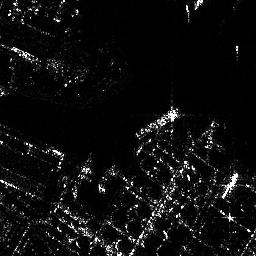ship: (135, 104, 183, 139)
